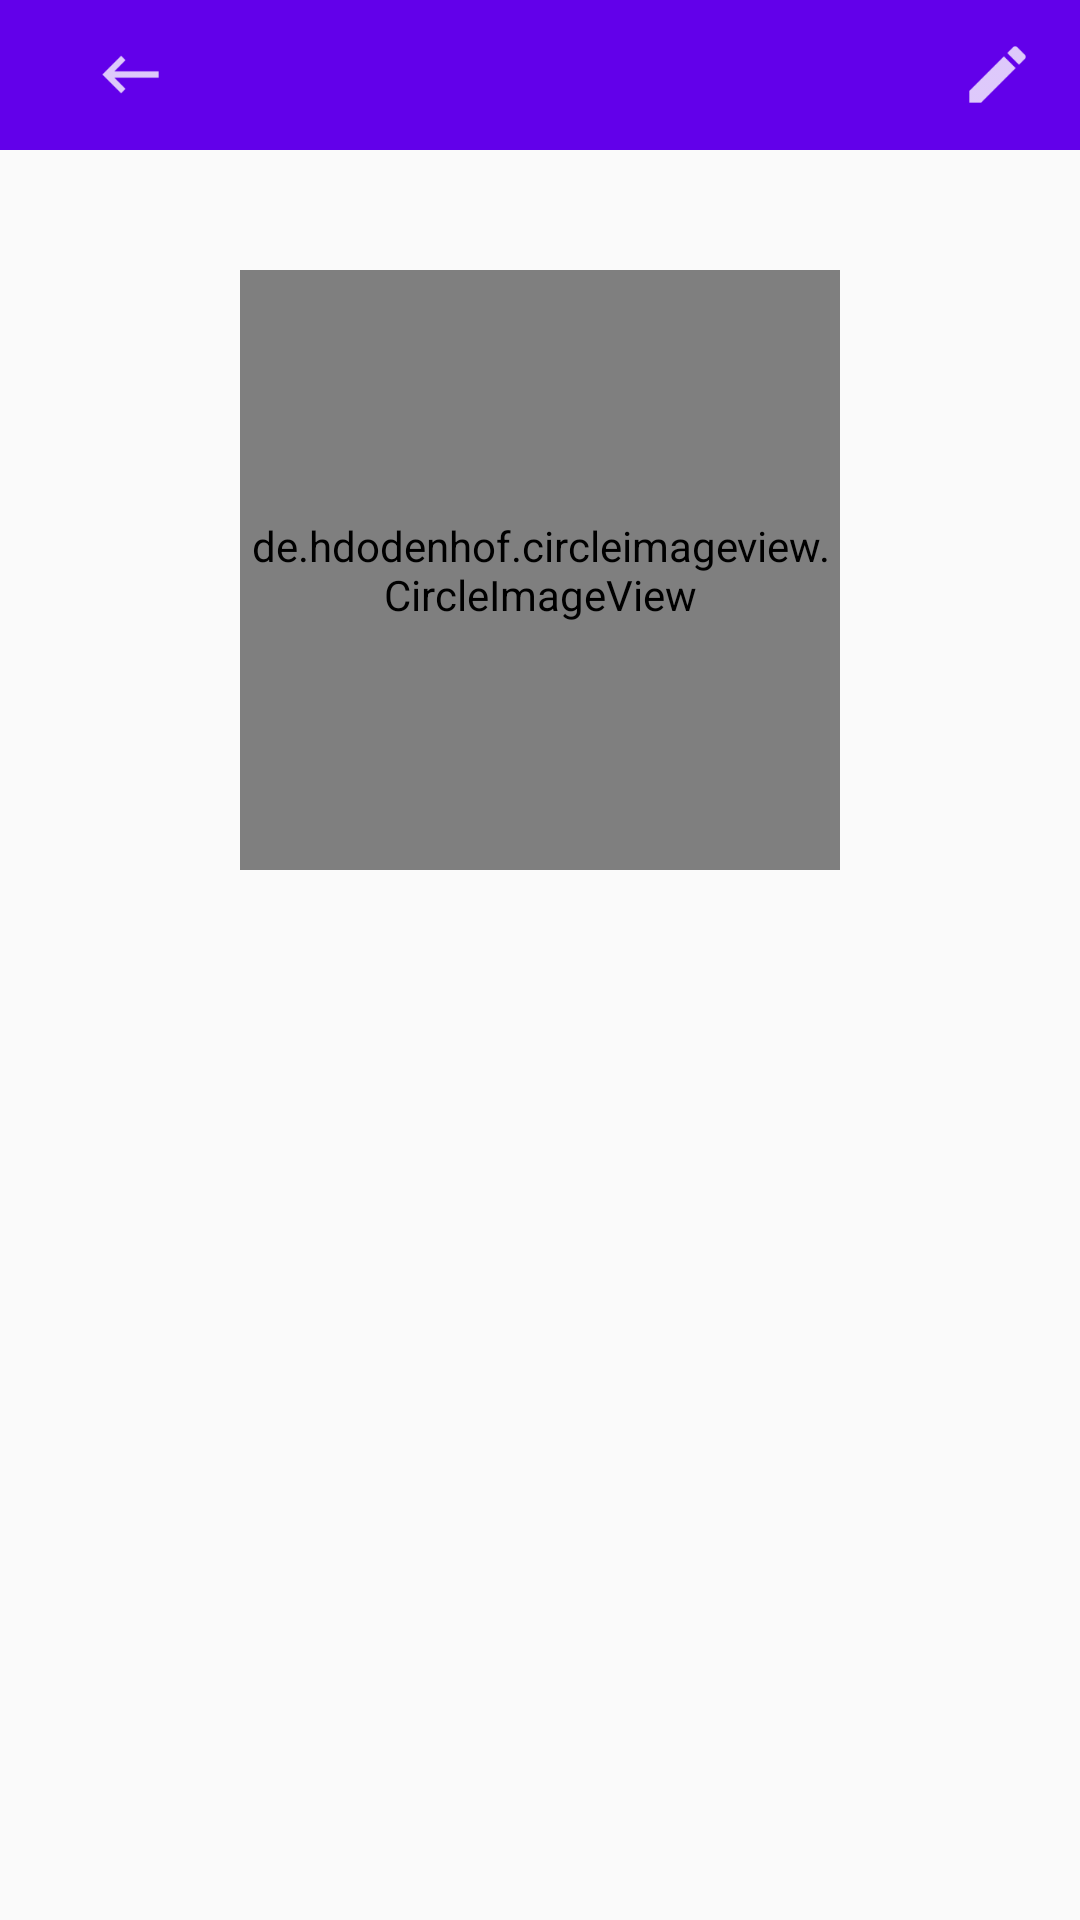

Icon click points for this 1080 x 1920 phone screenshot, format (x=x, y=y):
backarrow: (x=130, y=74)
edit: (x=997, y=74)
